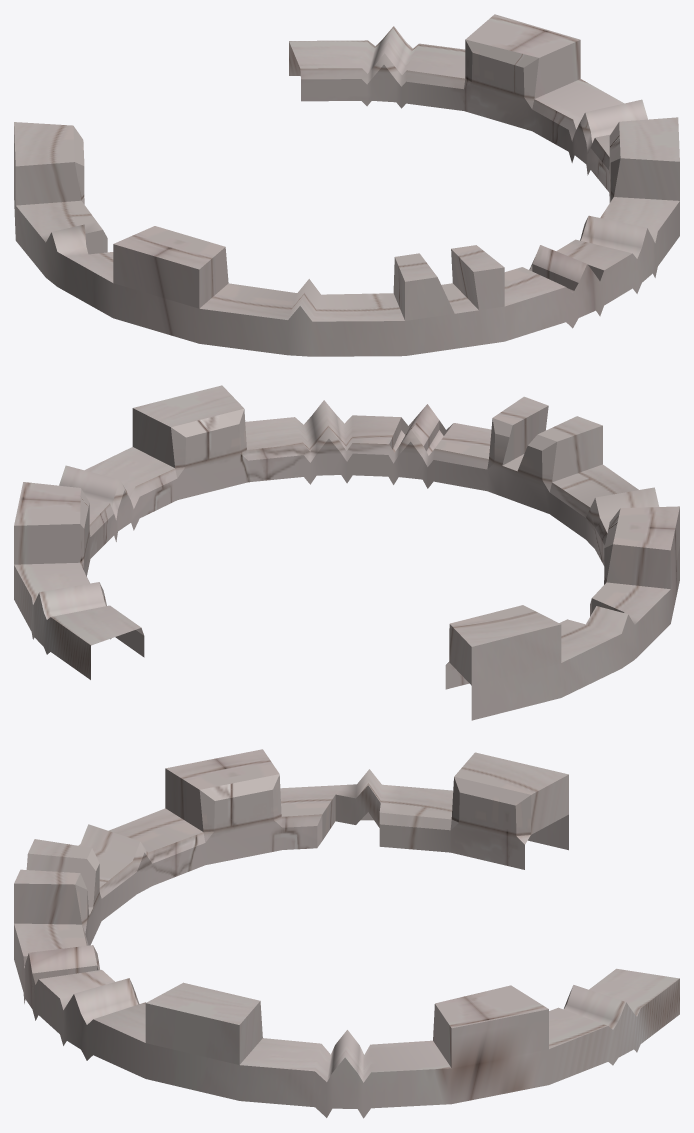
The model's file is Props_Rings.fbx.
3 views of the same model, one above another, from view 1: azimuth 30°, elevation 25°; view 2: azimuth 150°, elevation 25°; view 3: azimuth 270°, elevation 25° (orthographic). The views are drawn at different scales.
Visible parts, largest first — view 1: pCylinder13; view 2: pCylinder13; view 3: pCylinder13.
Boxes of the visible parts, x1=… form: pCylinder13: x1=14, y1=14, x2=679, y2=356; pCylinder13: x1=14, y1=385, x2=679, y2=720; pCylinder13: x1=14, y1=749, x2=679, y2=1118.
Bounding box in the file's own units: 294 × 40.78 × 287.
1 material, 1 textured.
